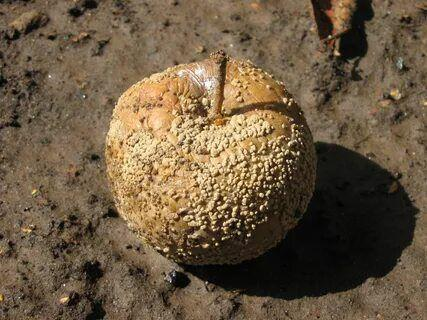Apple: (106, 59, 314, 264)
